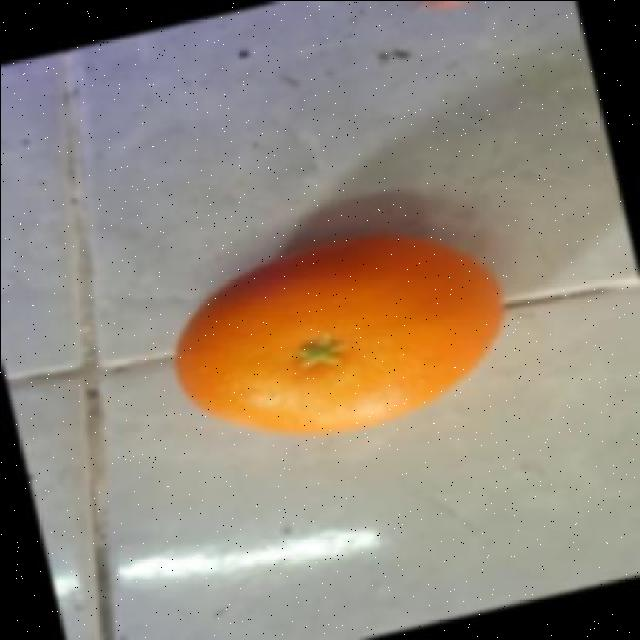Orange: (174, 234, 506, 438)
